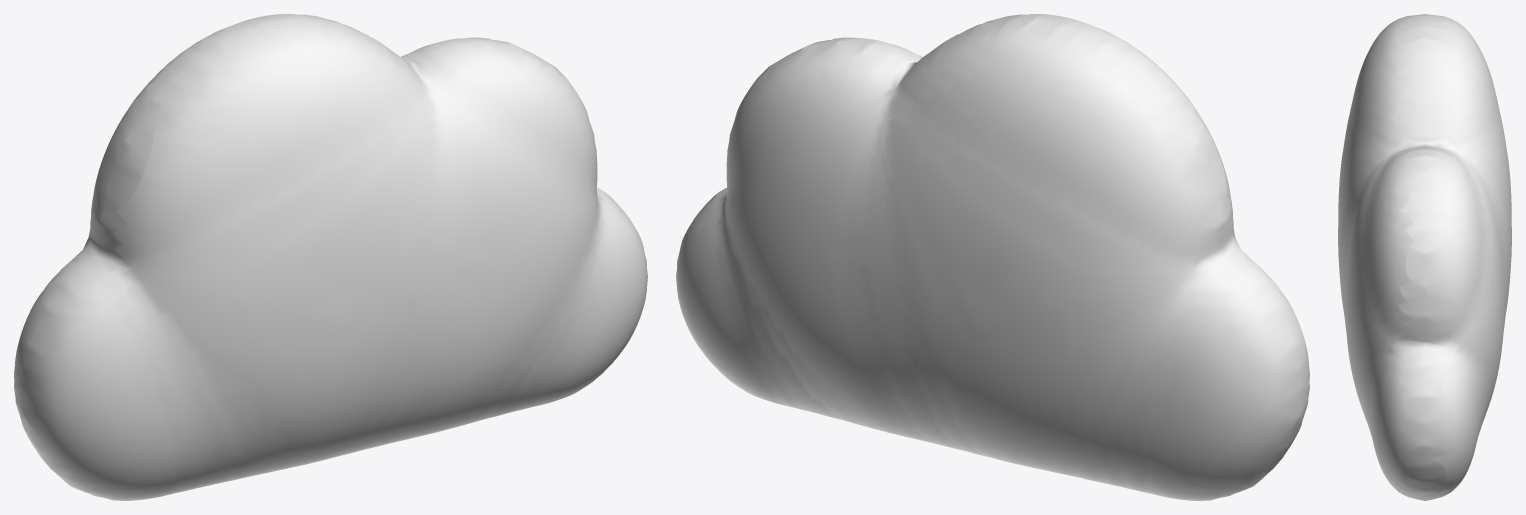
Rendered from Cloudy.glb.
3 views of the same model, side by side, from view 1: azimuth 30°, elevation 25°; view 2: azimuth 150°, elevation 25°; view 3: azimuth 270°, elevation 25° (orthographic). The views are drawn at different scales.
Visible parts, largest first — view 1: Object_33; view 2: Object_33; view 3: Object_33.
Boxes of the visible parts, bbox=[...] form: Object_33: bbox=[14, 14, 647, 500]; Object_33: bbox=[676, 14, 1309, 500]; Object_33: bbox=[1338, 14, 1511, 500].
Size of the model in its own units: 0.311 by 0.2114 by 0.0932.
1 material, 1 textured.
